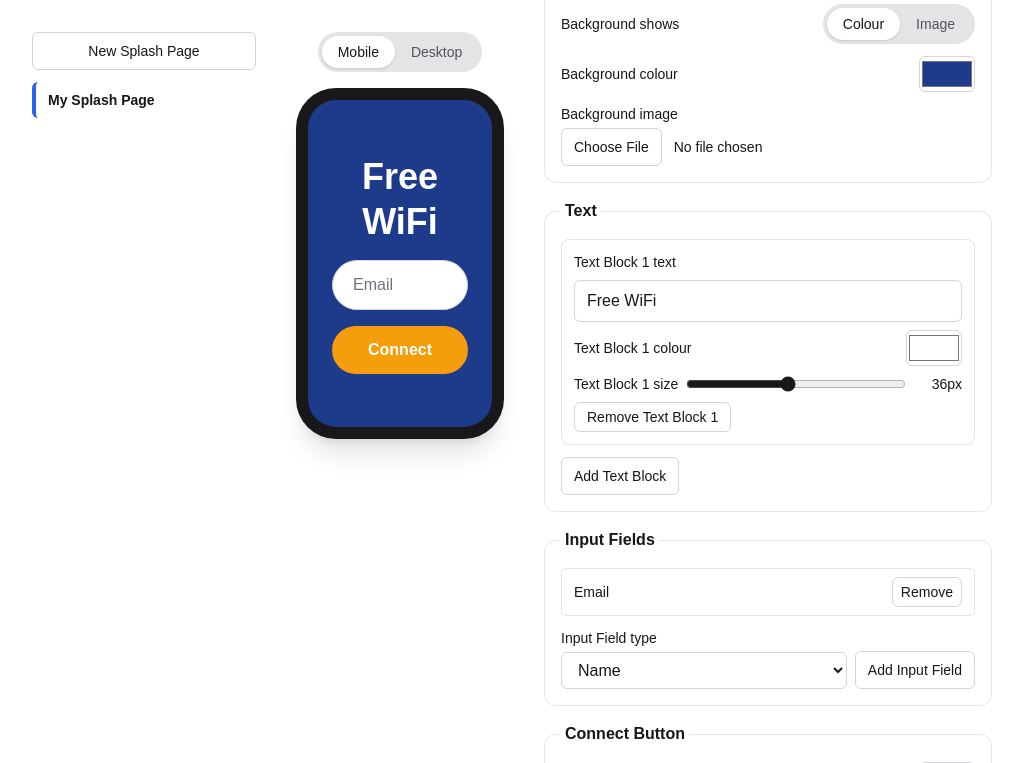
it: Captivator: Editor and Preview › changing a Text Block's size with its slider resizes it in the Preview and shows the size
The width and height of the screenshot is (1024, 763).
(page scrolled)
// user-event can't drag a range slider, so set its value directly.
Set the slider labelled "Text Block 1 size" to "48" at (835,384), box [686, 376, 906, 392]
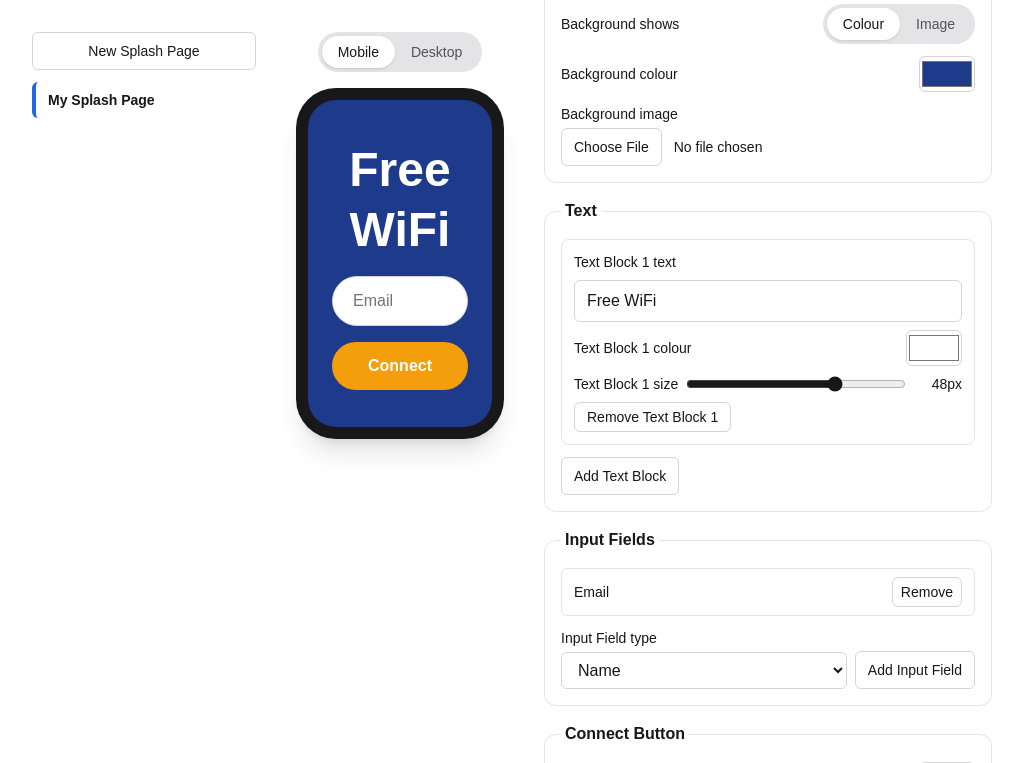
Check: the text "48px" is shown, box [932, 376, 962, 392]
